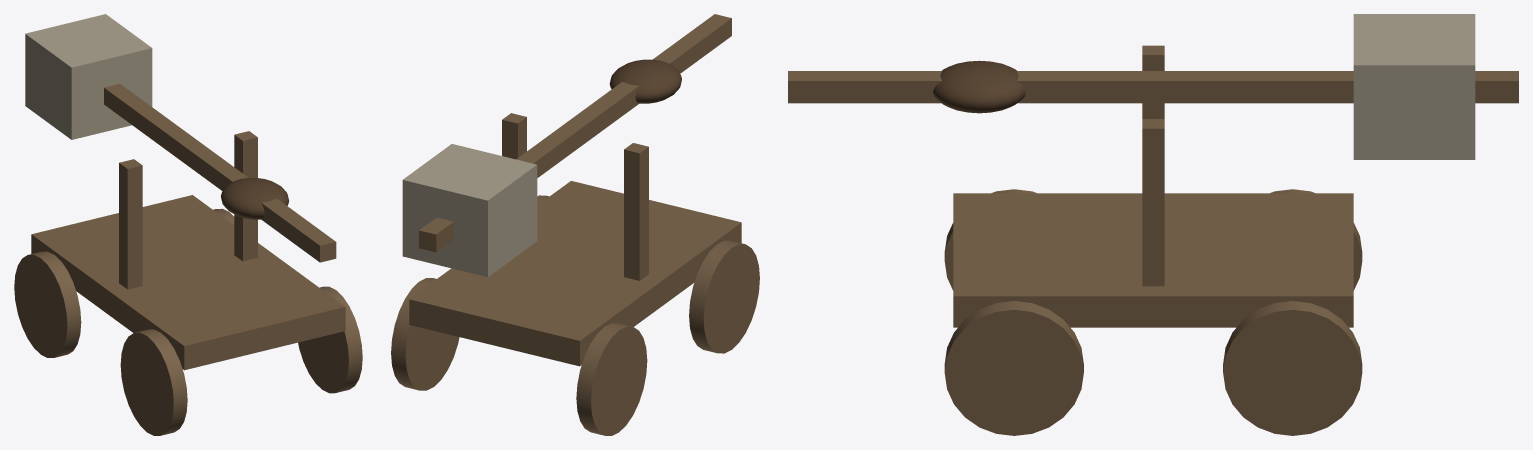
Rendered from trebuchet.glb.
The picture shows the model from 3 angles, left to right: view 1: azimuth 30°, elevation 25°; view 2: azimuth 150°, elevation 25°; view 3: azimuth 270°, elevation 25°; orthographic projection. The views are drawn at different scales.
Visible parts, largest first — view 1: Vehicle, beam; view 2: Vehicle, beam; view 3: Vehicle, beam.
Part boxes in pixels (bbox=[...]): Vehicle: bbox=[14, 131, 362, 435]; beam: bbox=[25, 14, 336, 262]; Vehicle: bbox=[391, 113, 759, 435]; beam: bbox=[402, 14, 731, 277]; Vehicle: bbox=[944, 45, 1362, 435]; beam: bbox=[788, 14, 1518, 159].
Bounding box in the file's own units: 1.64 × 2.13 × 4.2.
